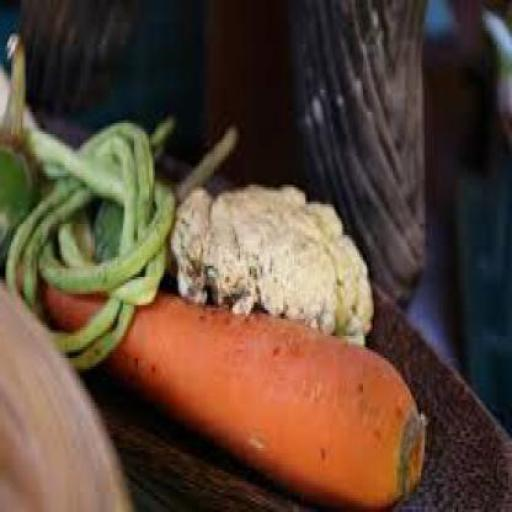biodegradable: (50, 266, 428, 509), (8, 112, 178, 369), (171, 177, 378, 344), (2, 36, 41, 280)
